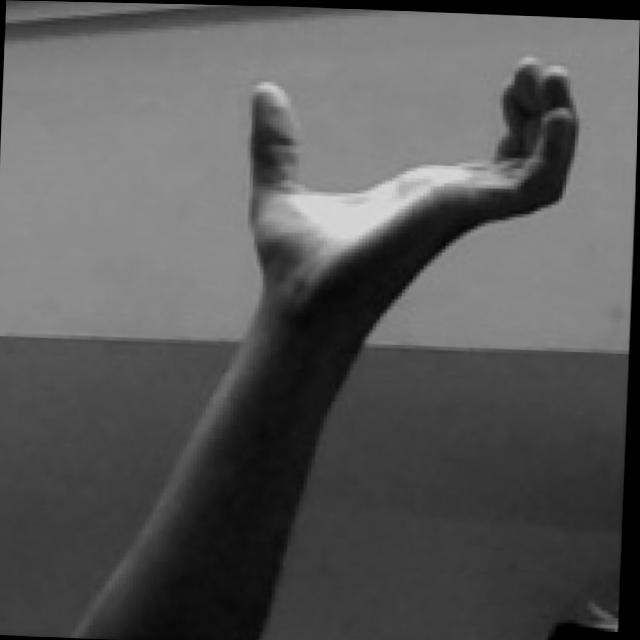space: (237, 43, 582, 322)
